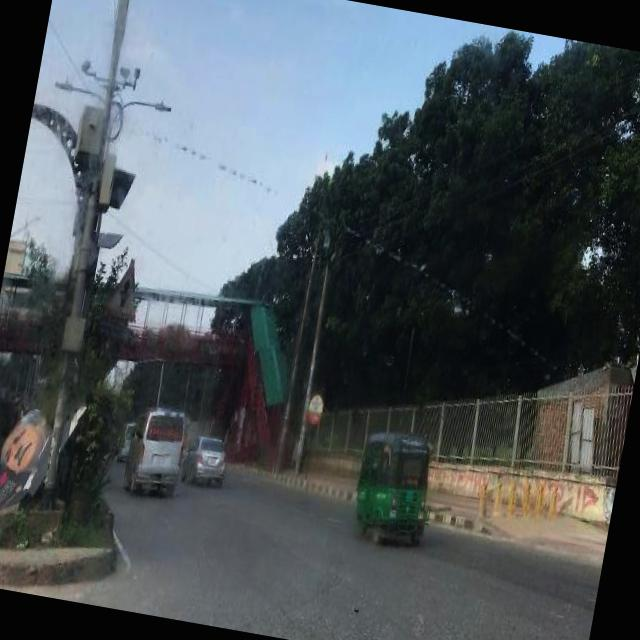car: (178, 427, 236, 496)
motorcycle: (344, 426, 444, 558)
truck: (122, 400, 192, 502)
